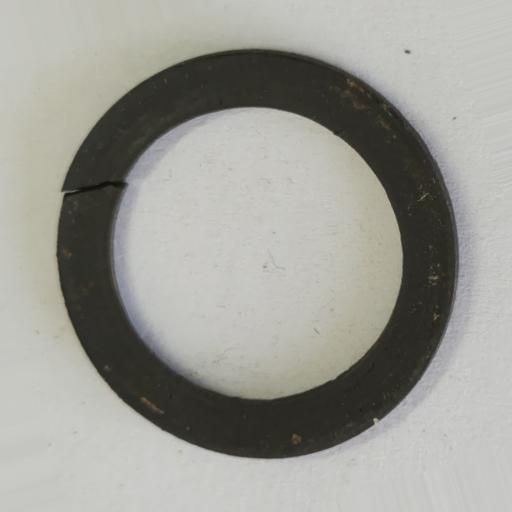defect: (61, 180, 129, 197)
